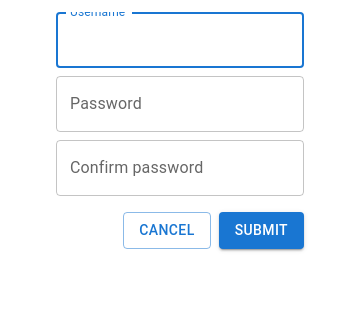
Test case: has strong password validation Password must contain at least one uppercase letter
In the password field labelled "Password": {"x": 180, "y": 104} x1=56 y1=76 x2=304 y2=132, type "n0 capital"
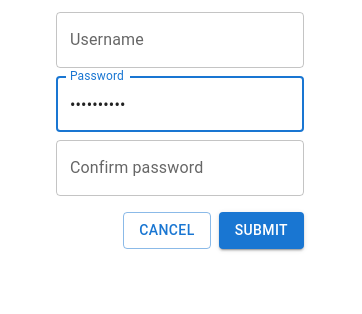
Click the button "Submit": {"x": 261, "y": 230} x1=219 y1=212 x2=304 y2=248
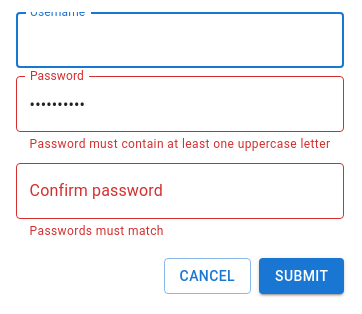
Result: the text "Password must contain at least one uppercase letter" is shown at x1=30 y1=135 x2=330 y2=155
